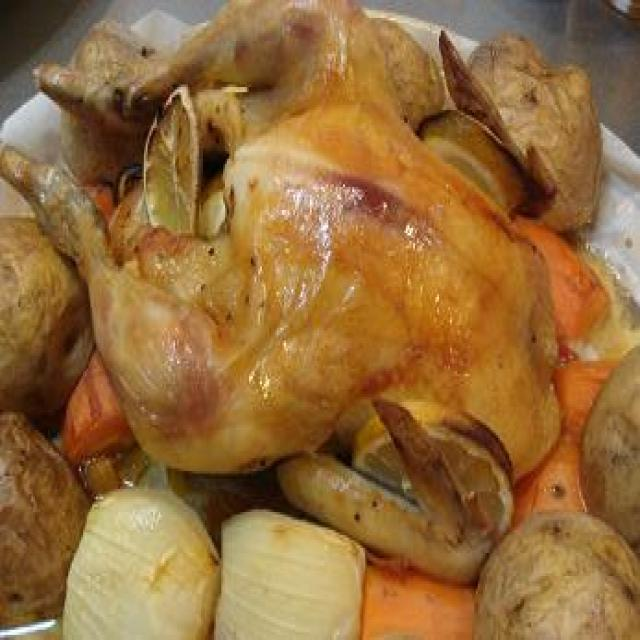Chicken roast: (39, 64, 559, 489)
